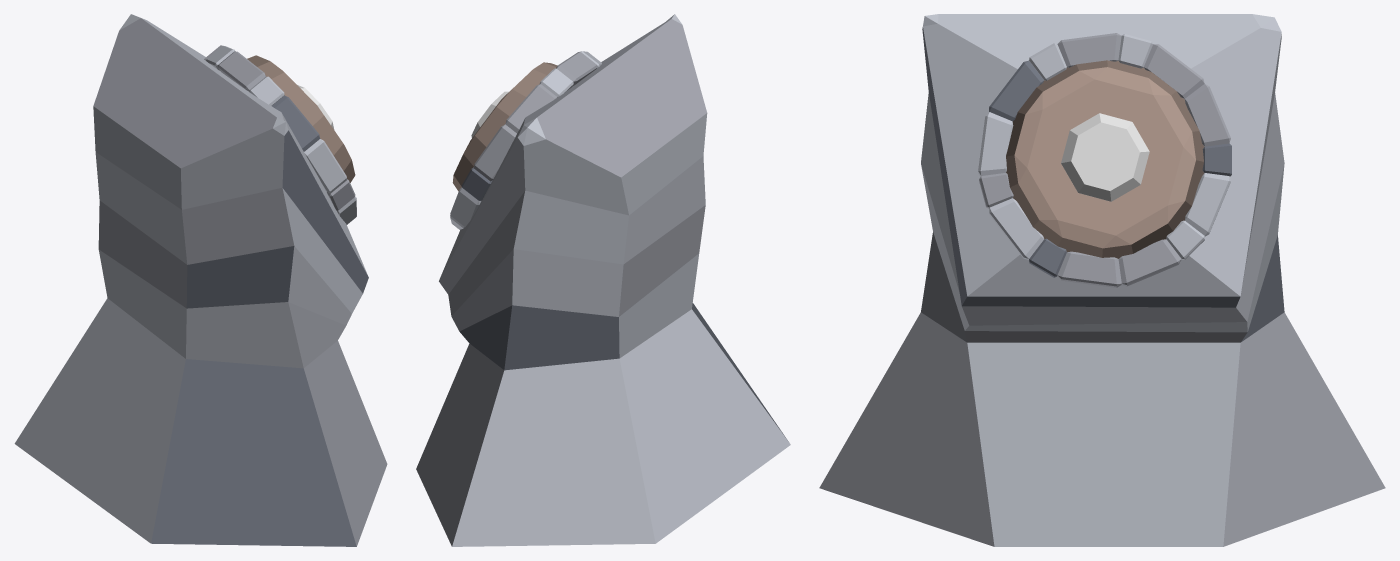
File: PressedButton_Test.fbx
3 views of the same model, side by side, from view 1: azimuth 30°, elevation 25°; view 2: azimuth 150°, elevation 25°; view 3: azimuth 270°, elevation 25° (orthographic). The views are drawn at different scales.
Parts seen in each view (by area): view 1: Cube, Bouton_Cercle, Bouton; view 2: Cube, Bouton_Cercle, Bouton; view 3: Cube, Bouton, Bouton_Cercle, Bouton_Color.
Boxes of the visible parts, x1=… form: Cube: x1=14, y1=14, x2=387, y2=546; Bouton_Cercle: x1=204, y1=45, x2=356, y2=224; Bouton: x1=247, y1=55, x2=355, y2=182; Cube: x1=416, y1=14, x2=790, y2=546; Bouton_Cercle: x1=450, y1=51, x2=601, y2=229; Bouton: x1=452, y1=62, x2=557, y2=191; Cube: x1=819, y1=14, x2=1385, y2=546; Bouton: x1=1006, y1=60, x2=1204, y2=258; Bouton_Cercle: x1=978, y1=33, x2=1231, y2=287; Bouton_Color: x1=1061, y1=113, x2=1149, y2=201.
Bounding box in the file's own units: 300 × 444 × 496.
